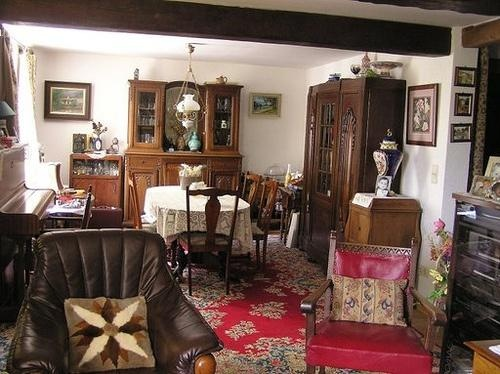chair: (8, 229, 224, 374), (300, 230, 448, 374), (178, 185, 242, 298), (249, 182, 281, 269), (243, 173, 263, 205)
diningtable: (144, 186, 253, 278)
